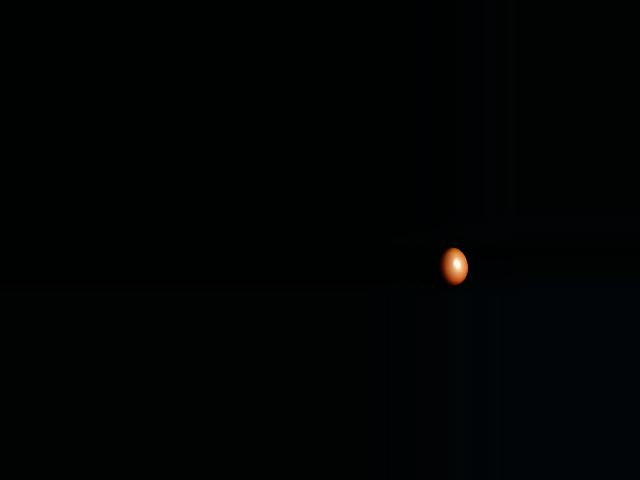egg: (437, 247, 467, 286)
